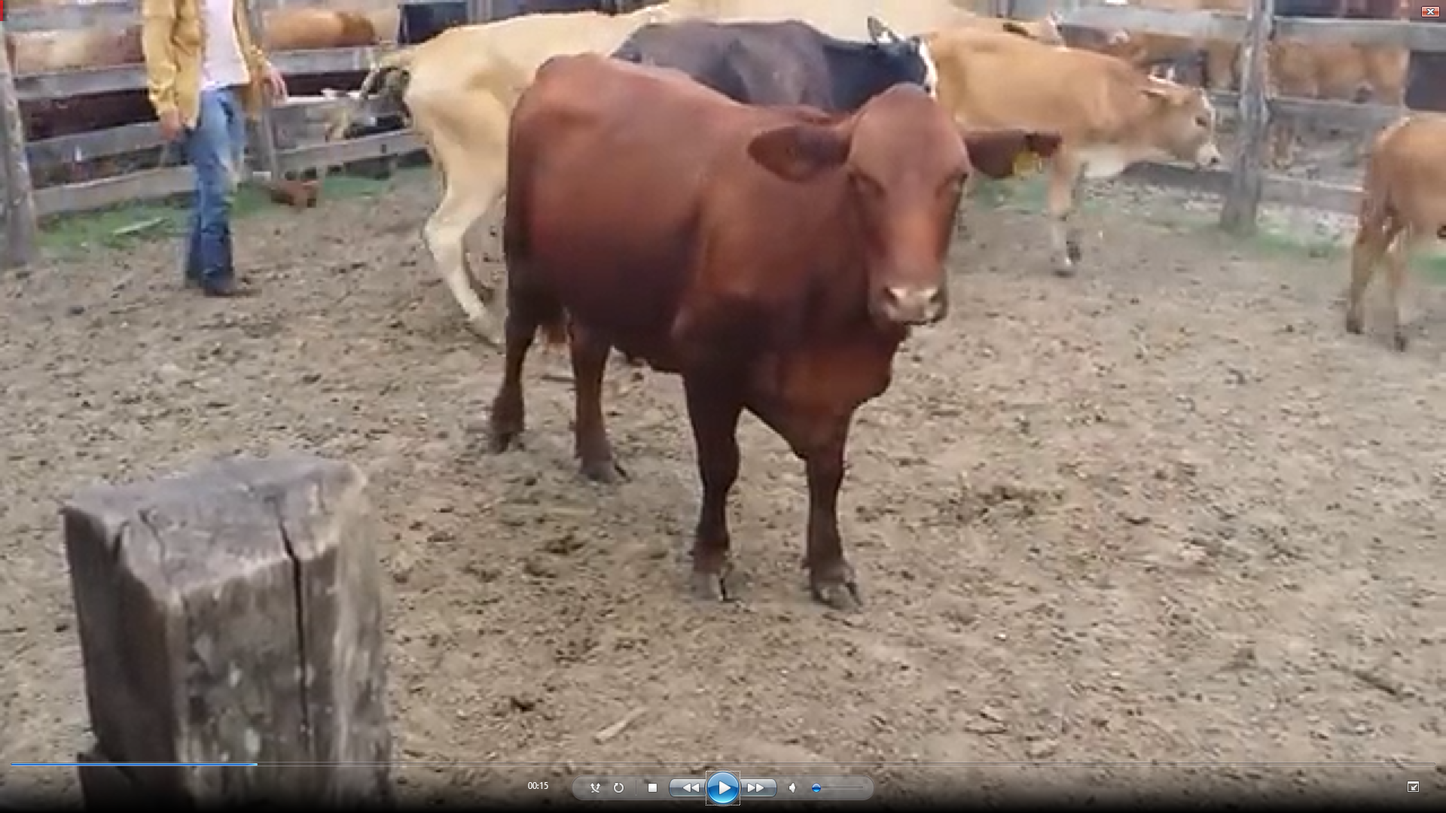bovino: (498, 50, 991, 609)
